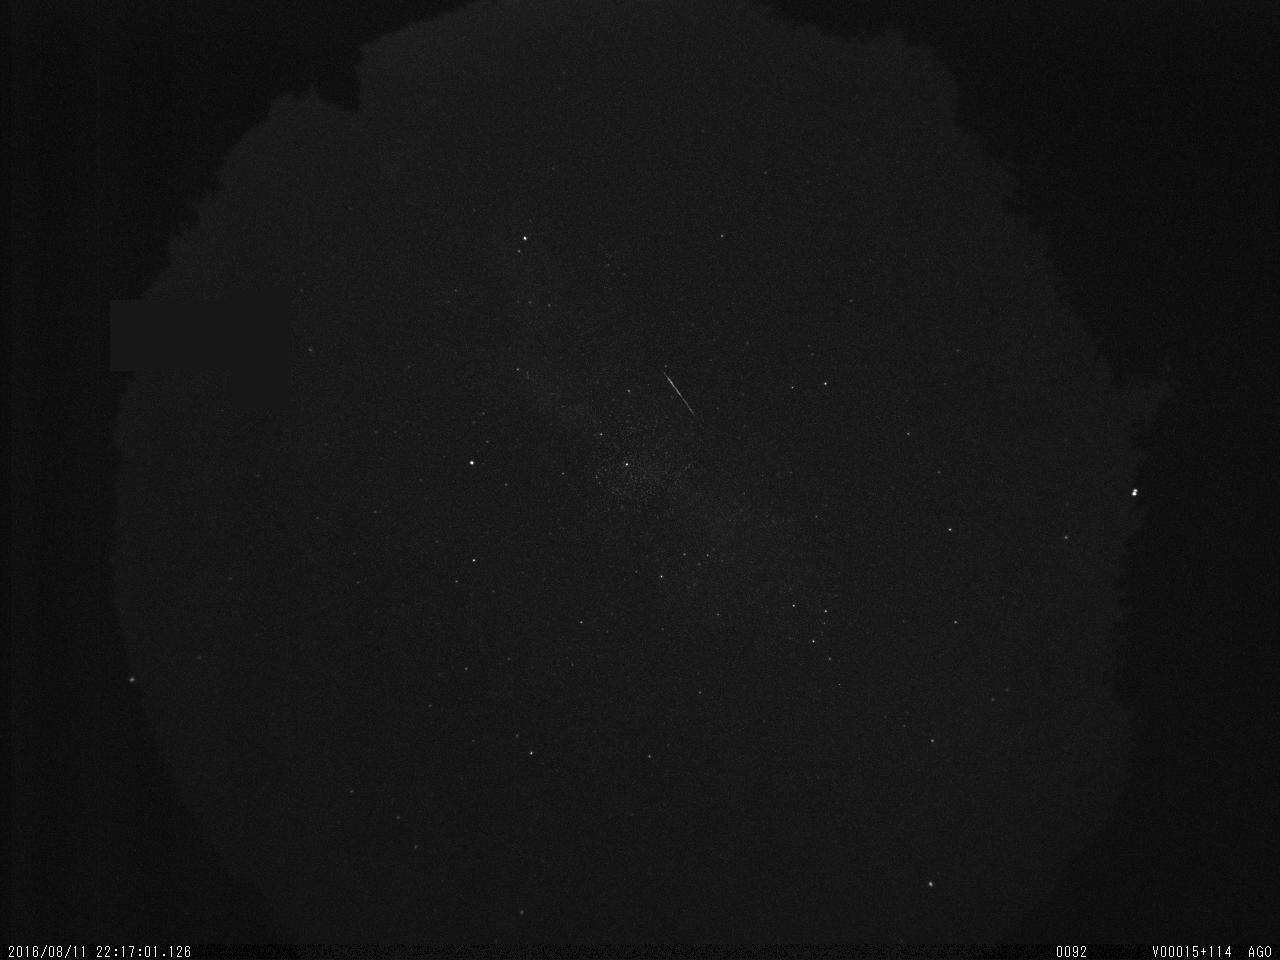Meteor: (660, 366, 697, 419)
